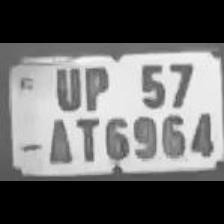4: (187, 108, 215, 158)
5: (134, 60, 166, 108)
6: (99, 113, 130, 164), (158, 110, 186, 158)
7: (164, 58, 194, 108)
9: (130, 110, 158, 160)
A: (43, 112, 74, 164)
P: (78, 62, 112, 110)
T: (71, 113, 101, 164)
U: (50, 63, 82, 111)
